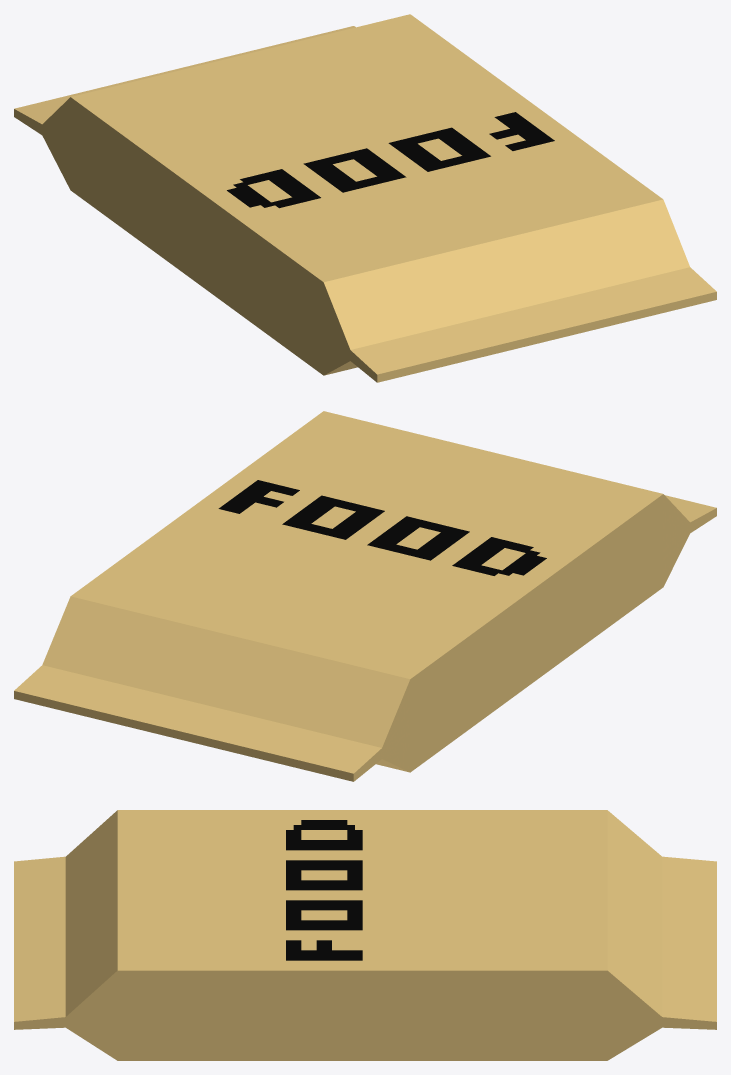
File: Food_Package.fbx
3 renders of one model, top to bottom at view 1: azimuth 30°, elevation 25°; view 2: azimuth 150°, elevation 25°; view 3: azimuth 270°, elevation 25°, orthographic. The views are drawn at different scales.
Parts seen in each view (by area): view 1: Cube; view 2: Cube; view 3: Cube.
Part boxes in pixels (bbox=[...]): Cube: bbox=[14, 14, 716, 382]; Cube: bbox=[14, 411, 716, 781]; Cube: bbox=[14, 810, 716, 1060].
Size of the model in its own units: 21.72 by 5.7 by 40.21.
